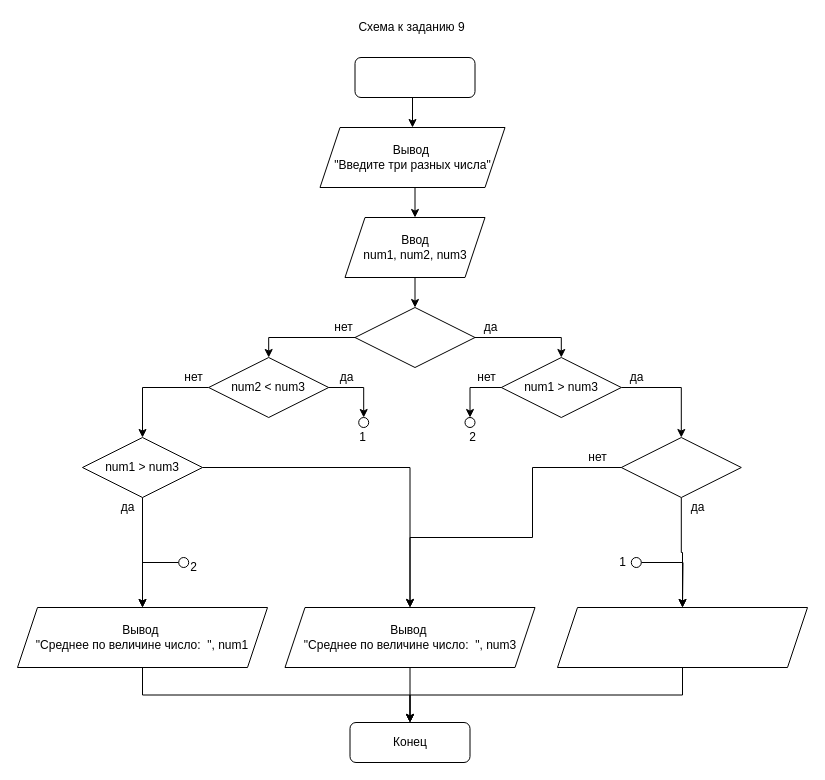
This 825x780 diagram has some shape labels left out. Here are the shapes that lost their labels. From the top down, the centre of each, then its label:
the point at 414,77: Начало
the point at 414,337: num1 > num2
the point at 680,467: num2 > num3
the point at 682,637: Вывод "Среднее по величине число: ", num2
